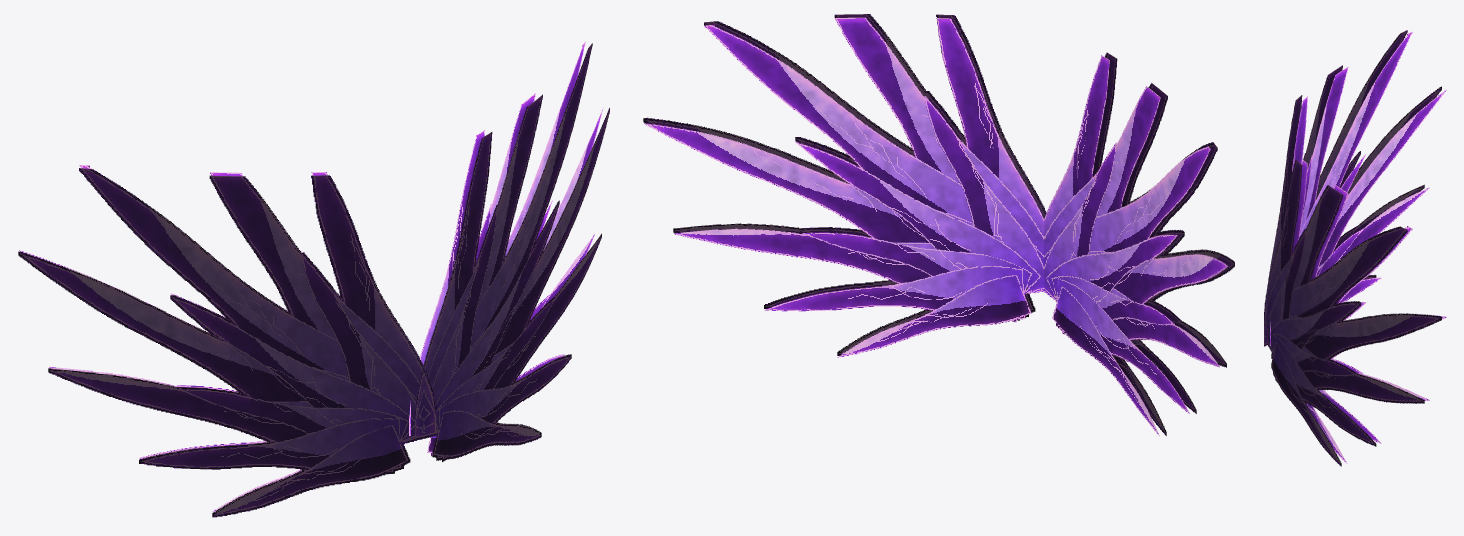
File: amethyst_flame_wings.glb
3 renders of one model, left to right at view 1: azimuth 30°, elevation 25°; view 2: azimuth 150°, elevation 25°; view 3: azimuth 270°, elevation 25°, orthographic. The views are drawn at different scales.
Visible parts, largest first — view 1: Amethyst Flame Wings Wing Right, Amethyst Flame Wings Wing Left; view 2: Amethyst Flame Wings Wing Left, Amethyst Flame Wings Wing Right; view 3: Amethyst Flame Wings Wing Left, Amethyst Flame Wings Wing Right.
Boxes of the visible parts, <box> form: Amethyst Flame Wings Wing Right: <box>18,165,436,517</box>; Amethyst Flame Wings Wing Left: <box>409,41,609,461</box>; Amethyst Flame Wings Wing Left: <box>643,14,1046,357</box>; Amethyst Flame Wings Wing Right: <box>1044,52,1234,435</box>; Amethyst Flame Wings Wing Left: <box>1264,159,1446,466</box>; Amethyst Flame Wings Wing Right: <box>1264,30,1446,358</box>.
Size of the model in its own units: 2 by 1.11 by 0.6762.
Materials: 2 (2 with a texture image).
